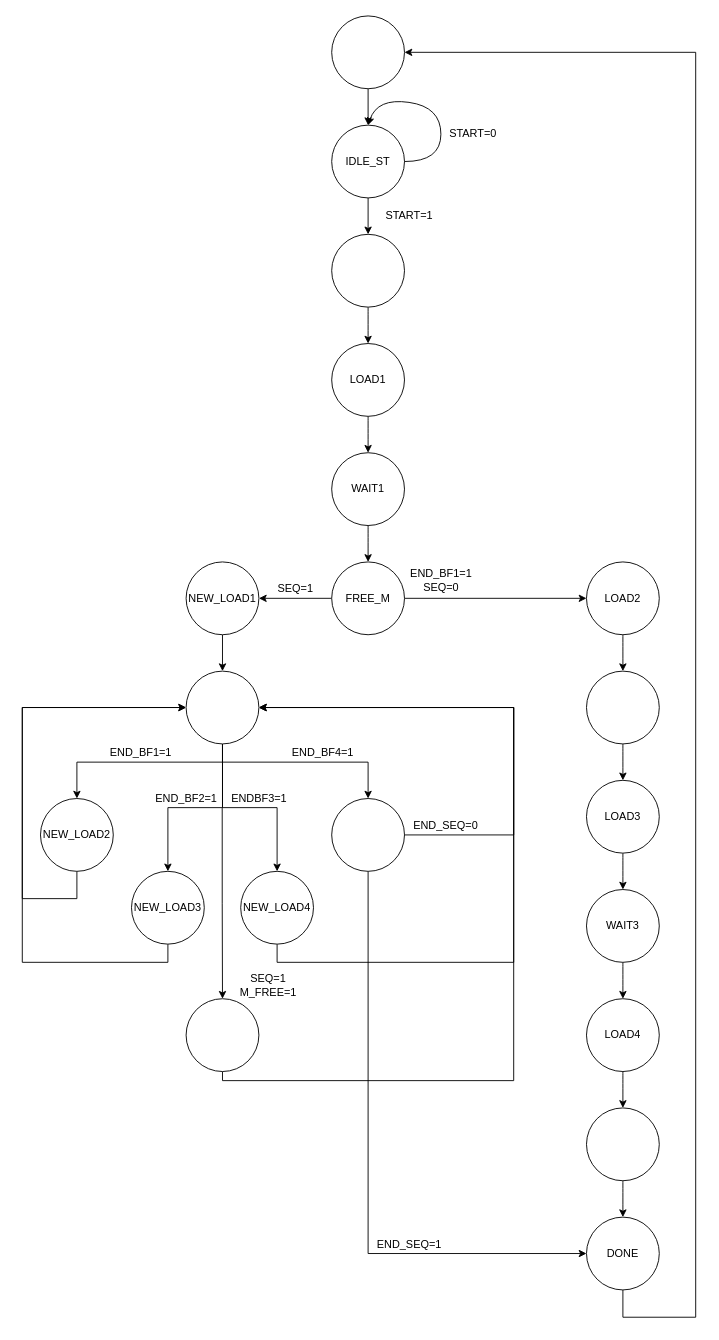
The diagram is 719 pixels wide and 1340 high, and some of its shapes have lost their labels. The centre of each missing label's shape, as x and y in pixels:
"NEW_FREE_M" belongs at point (222, 1035).
"READY" belongs at point (367, 834).
"RESET" belongs at point (367, 52).
"SEQ_ST" belongs at point (222, 707).
"START_ST" belongs at point (367, 270).
"WAIT2" belongs at point (622, 707).
"WAIT4" belongs at point (622, 1144).
